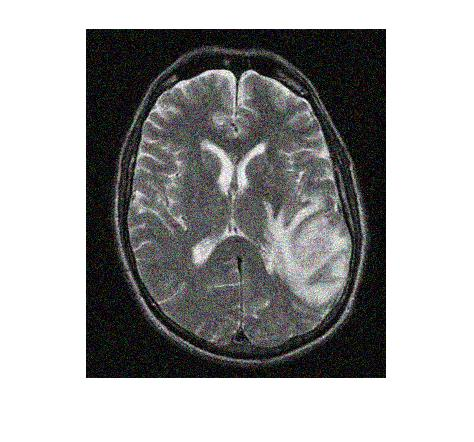Brain_Cancer: (279, 217, 359, 295)
